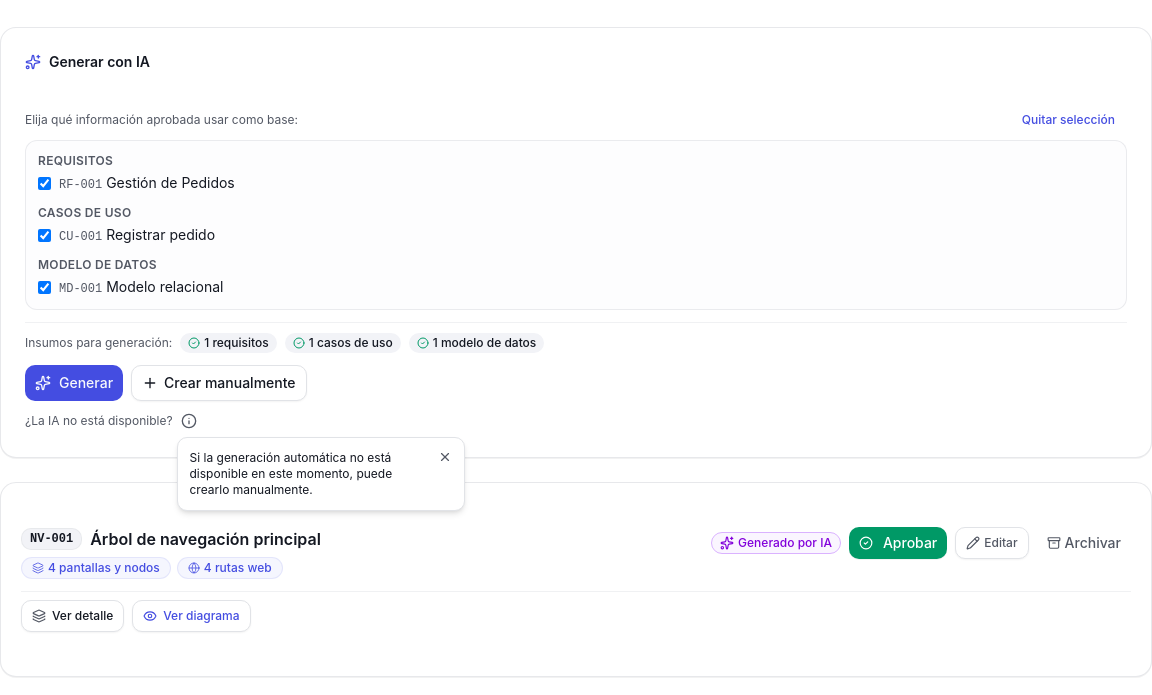
NavigationPage › expands detail to view structured tree with semantic badges and hierarchy
What coordinates should you click on to do the following:
click the button "Ver detalle"
I would click on:
 (73, 616)
Its box is [21,600,124,632].
(page scrolled)
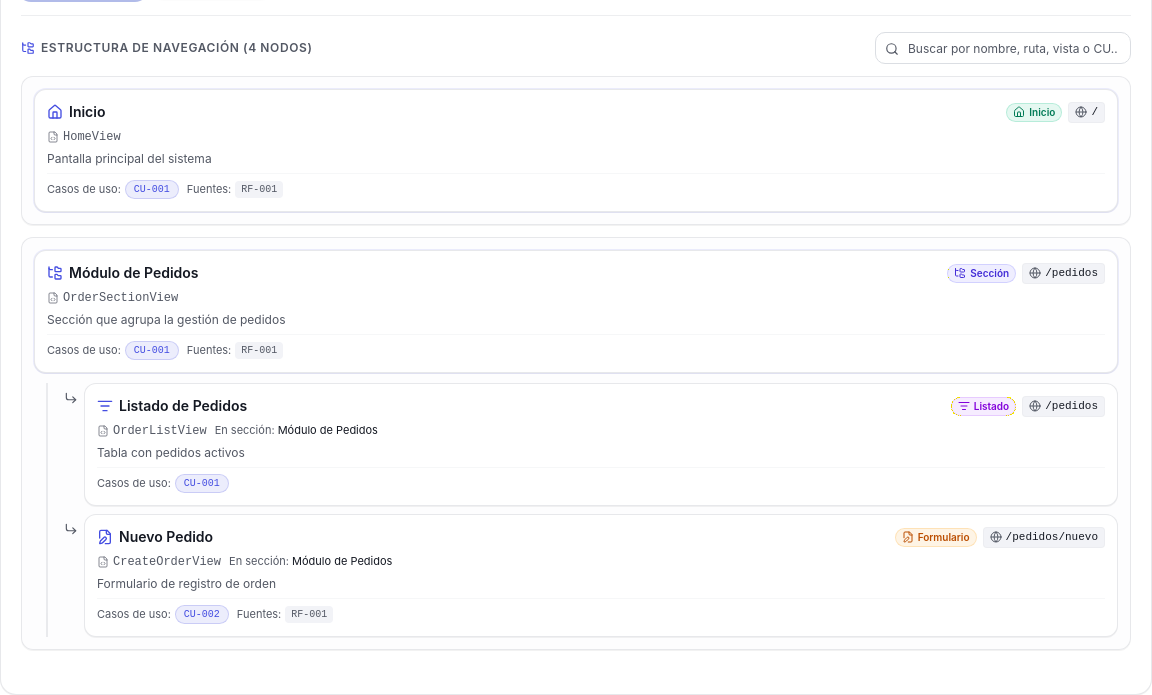
expect the heading "Estructura de navegación (4 nodos)" is shown: met, box [21,40,312,56]
expect the text "Inicio" is shown: met, box [69,102,106,122]
expect the 1st text "Módulo de Pedidos" is shown: met, box [69,263,199,283]
